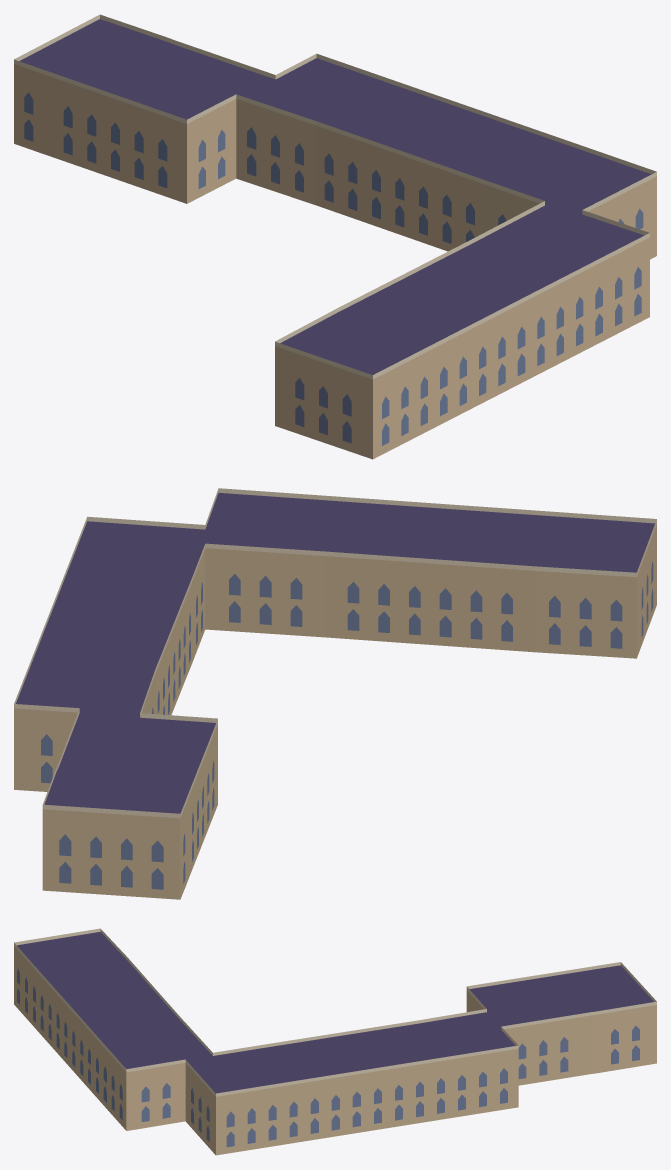
The model's file is b-120-day.glb.
The picture shows the model from 3 angles, top to bottom: view 1: azimuth 30°, elevation 25°; view 2: azimuth 150°, elevation 25°; view 3: azimuth 270°, elevation 25°; orthographic projection. The views are drawn at different scales.
Visible parts, largest first — view 1: campus/b-120-day-0; view 2: campus/b-120-day-0; view 3: campus/b-120-day-0.
Part boxes in pixels (<box>): campus/b-120-day-0: <box>14,14,656,459</box>; campus/b-120-day-0: <box>14,488,656,899</box>; campus/b-120-day-0: <box>14,928,656,1155</box>.
Size of the model in its own units: 59.16 by 10.35 by 97.38.
